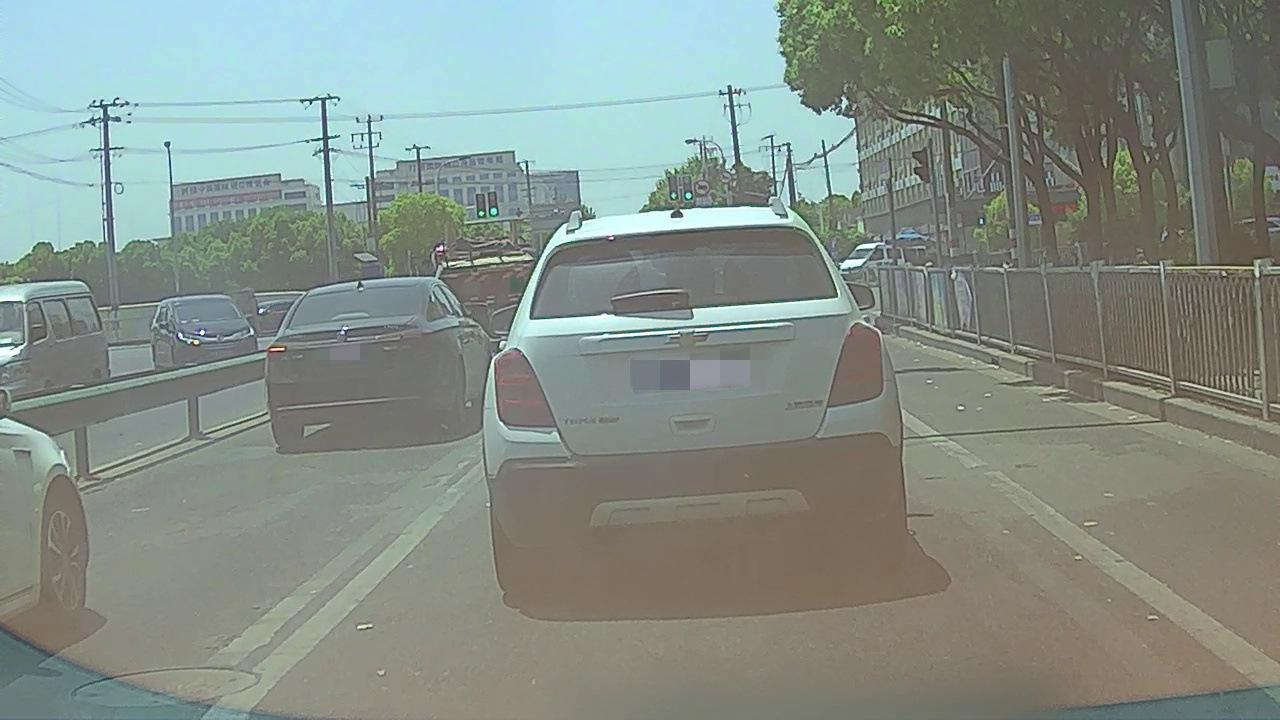traffic_light: (474, 194, 487, 219), (486, 191, 499, 216), (668, 176, 678, 202), (683, 176, 693, 200)
